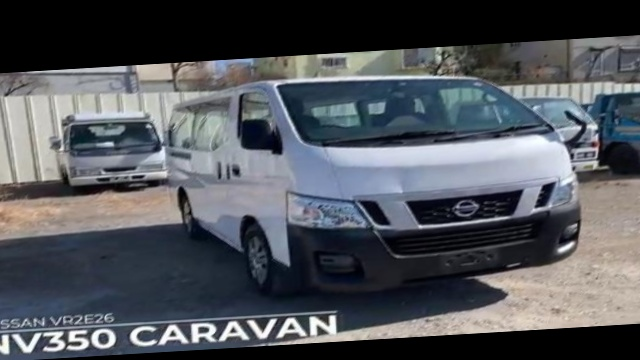van: (157, 61, 590, 304)
